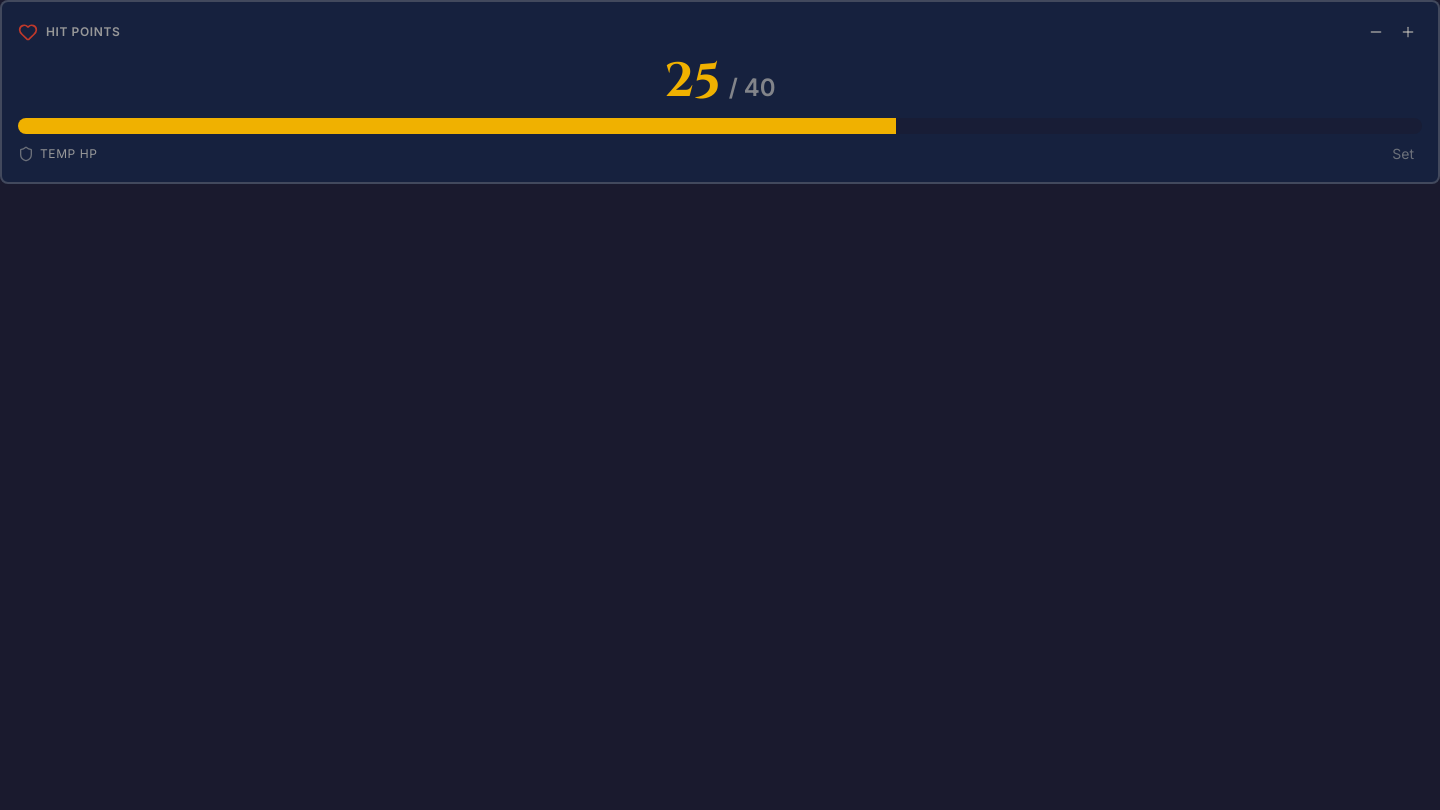
Test: HPSessionTracker › opens damage modal when HP display is clicked
The image size is (1440, 810).
Click the button with test id "hp-display": (720, 82) [18, 58, 1422, 106]
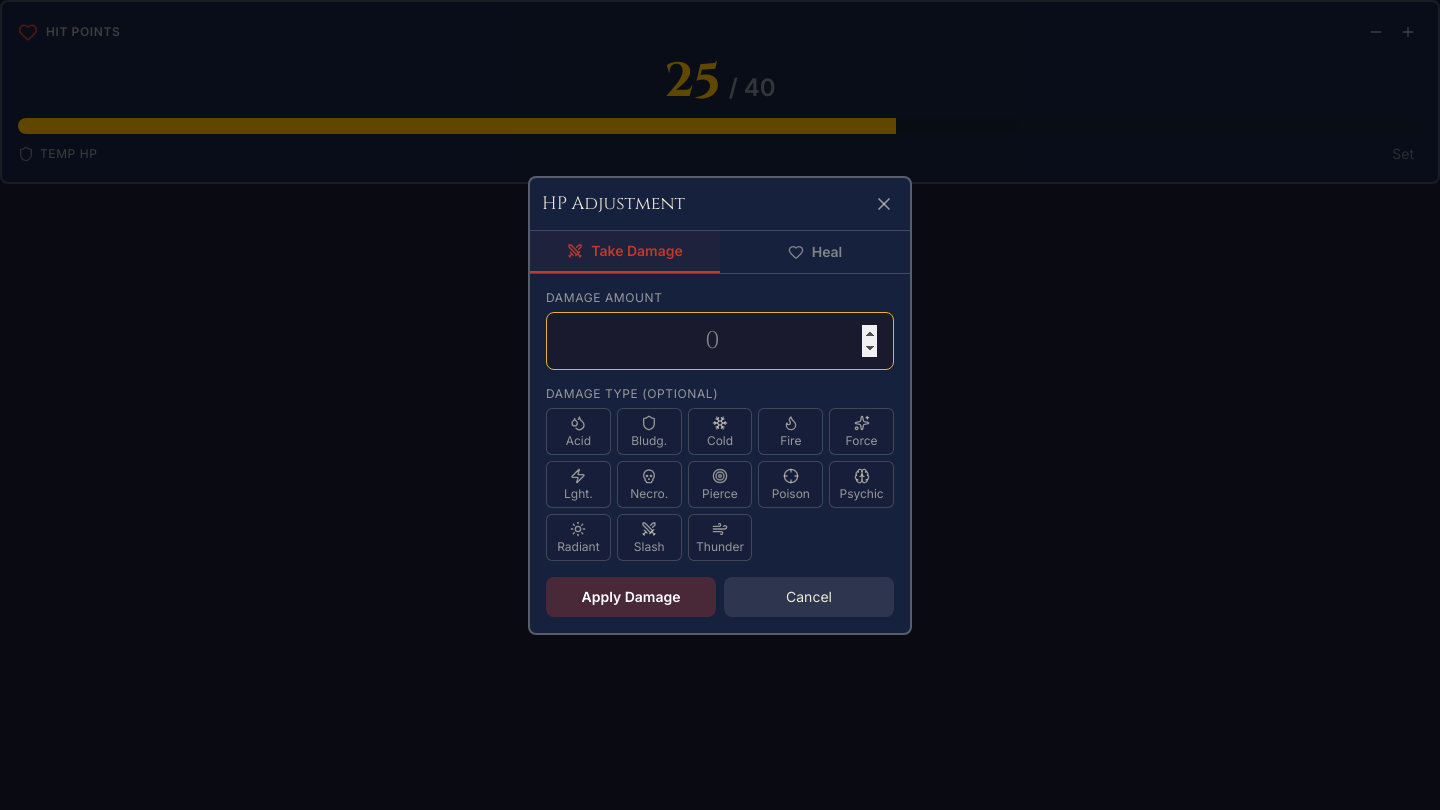
Result: the dialog with test id "damage-heal-modal" is shown
